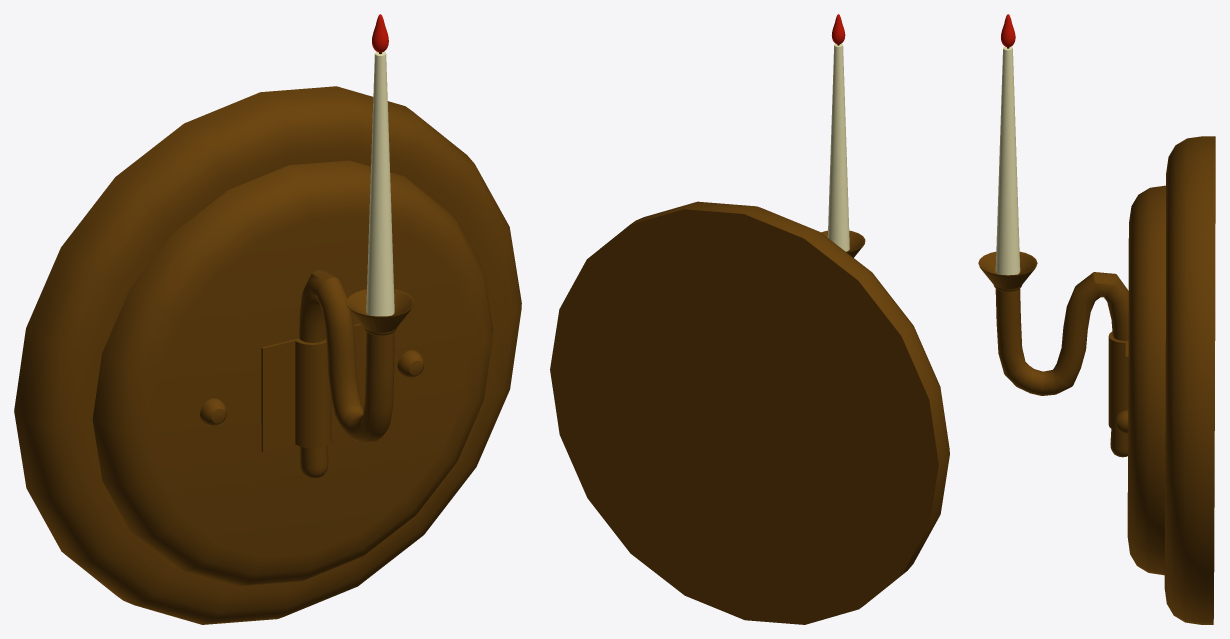
Rendered from CANDELABRA.fbx.
3 views of the same model, side by side, from view 1: azimuth 30°, elevation 25°; view 2: azimuth 150°, elevation 25°; view 3: azimuth 270°, elevation 25° (orthographic). The views are drawn at different scales.
Visible parts, largest first — view 1: MOUNT, ARM, CANDLE, HOLDER WELD, HOLDER, PLATE; view 2: MOUNT, CANDLE; view 3: MOUNT, ARM, CANDLE, HOLDER, PLATE, FLAME.
Part boxes in pixels (x1,y1,x2,y2): MOUNT: (14,86,521,624); ARM: (299,270,394,478); CANDLE: (366,52,394,316); HOLDER WELD: (261,323,361,451); HOLDER: (295,338,331,448); PLATE: (346,289,414,335); MOUNT: (550,201,949,624); CANDLE: (827,43,849,251); MOUNT: (1127,136,1215,624); ARM: (995,272,1128,457); CANDLE: (995,46,1020,275); HOLDER: (1108,331,1128,431); PLATE: (978,251,1037,291); FLAME: (1001,14,1015,47).
Size of the model in its own units: 10 by 13.21 by 4.82.
